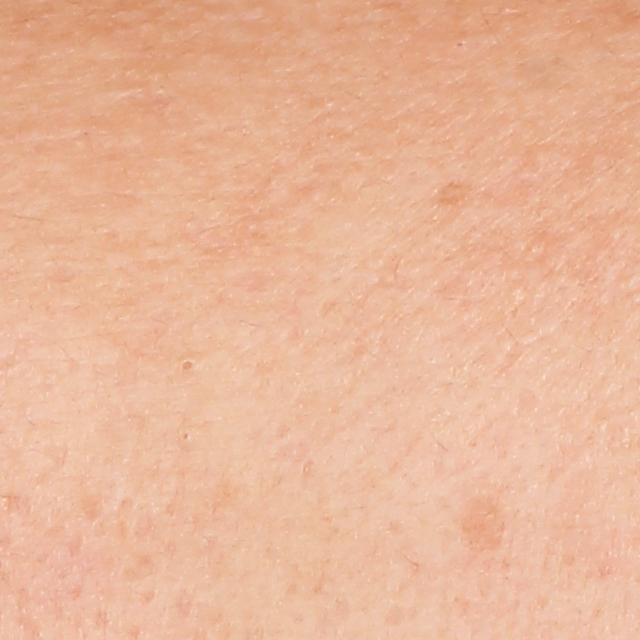comedo: (175, 355, 201, 374), (176, 428, 194, 442), (455, 36, 469, 51)
